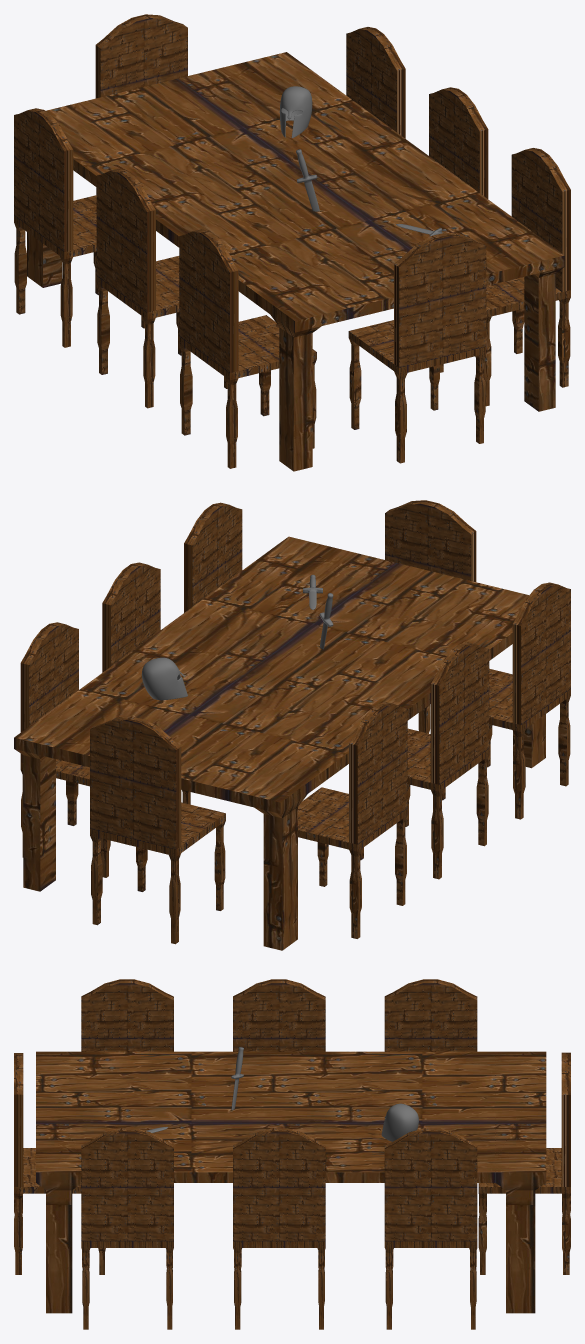
Rendered from Grand_Table.fbx.
3 views of the same model, one above another, from view 1: azimuth 30°, elevation 25°; view 2: azimuth 150°, elevation 25°; view 3: azimuth 270°, elevation 25° (orthographic). The views are drawn at different scales.
Visible parts, largest first — view 1: Tables, Chaise_07, Chaise_03, Chaise_02, Chaise_01, Chaise_04, Chaise_08, Chaise_05, Chaise_06, FantasyHelmet:Helmet; view 2: Tables, Chaise_08, Chaise_01, Chaise_02, Chaise_03, Chaise_06, Chaise_07, Chaise_05, Chaise_04, FantasyHelmet:Helmet; view 3: Tables, Chaise_06, Chaise_04, Chaise_05, Chaise_01, Chaise_03, Chaise_02, Chaise_08, Chaise_07, FantasyHelmet:Helmet.
Boxes of the visible parts, box(x1,y1,x2,y2) form: Tables: box(27, 52, 564, 471); Chaise_07: box(348, 232, 486, 463); Chaise_03: box(179, 229, 316, 468); Chaise_02: box(96, 168, 227, 408); Chaise_01: box(14, 108, 144, 347); Chaise_04: box(440, 148, 570, 406); Chaise_08: box(95, 14, 187, 194); Chaise_05: box(429, 87, 488, 198); Chaise_06: box(346, 27, 405, 138); FantasyHelmet:Helmet: box(279, 86, 312, 138); Tables: box(14, 536, 545, 950); Chaise_08: box(90, 716, 225, 944); Chaise_01: box(298, 702, 407, 938); Chaise_02: box(360, 642, 489, 879); Chaise_03: box(442, 582, 570, 819); Chaise_06: box(20, 622, 110, 877); Chaise_07: box(385, 500, 476, 733); Chaise_05: box(102, 562, 190, 804); Chaise_04: box(184, 502, 242, 612); FantasyHelmet:Helmet: box(141, 657, 187, 700); Tables: box(36, 1051, 546, 1313); Chaise_06: box(384, 1128, 477, 1329); Chaise_04: box(81, 1128, 173, 1329); Chaise_05: box(233, 1128, 325, 1329); Chaise_01: box(384, 979, 477, 1051); Chaise_03: box(81, 979, 173, 1051); Chaise_02: box(233, 979, 325, 1051); Chaise_08: box(478, 1052, 570, 1274); Chaise_07: box(14, 1053, 105, 1274); FantasyHelmet:Helmet: box(381, 1103, 418, 1141).
Size of the model in its own units: 305 by 186 by 469.
